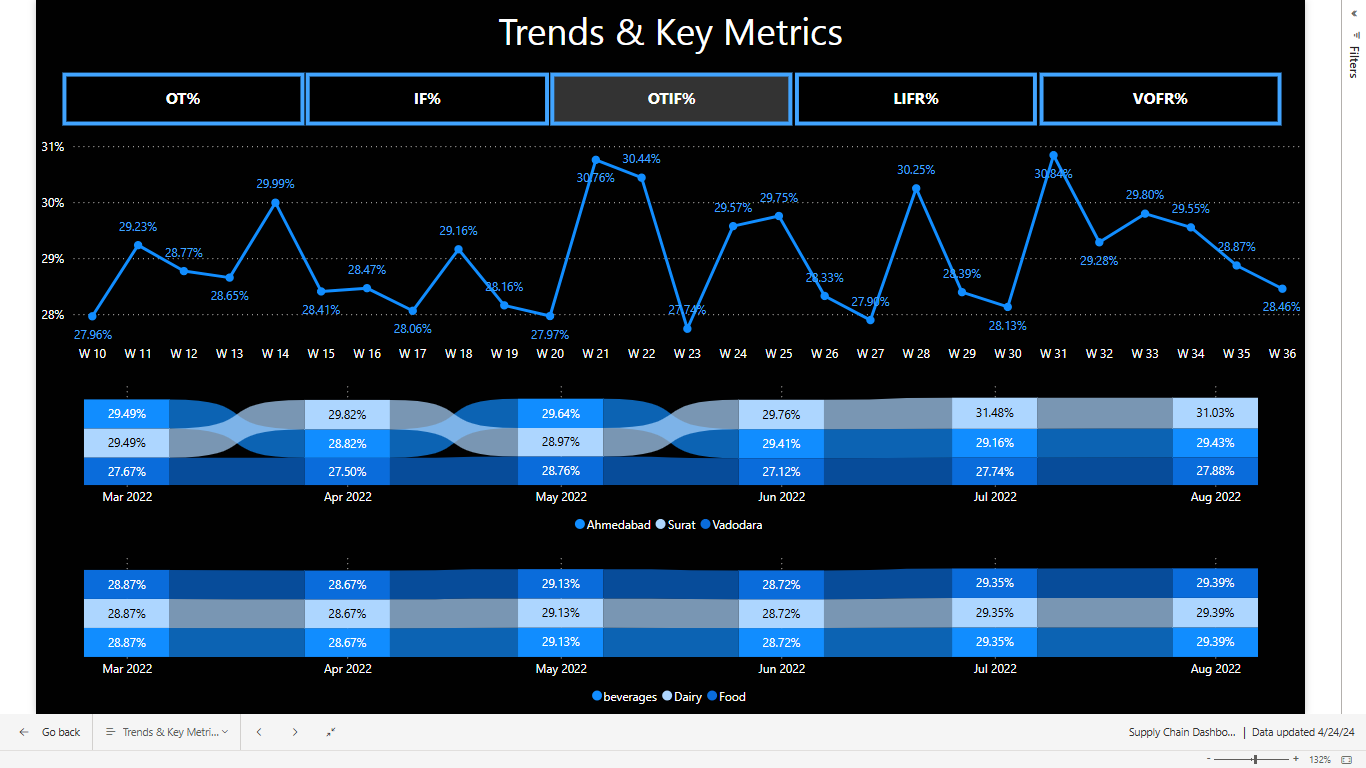

Layout of this report page (visuals, bound fields, positions):
{"tool":"powerbi","page":{"name":"Trends for Key Matrices","canvas":[1280,720],"ordinal":2},"visuals":[{"type":"lineChart","fields":{"Y":["fact_order_lines.VOFR%"],"Category":["dim_date.week_no"]},"box":[0,133.3,1280,241.7],"z":0},{"type":"ribbonChart","fields":{"Y":["fact_order_lines.VOFR%"],"Category":["dim_date.mmm_yy"],"Series":["dim_customers.city"]},"box":[0,375,1280,171.7],"z":1000},{"type":"ribbonChart","fields":{"Y":["fact_order_lines.VOFR%"],"Series":["dim_products.category"],"Category":["dim_date.mmm_yy"]},"box":[0,546.7,1280,173.3],"z":2000},{"type":"slicer","fields":{"Values":["Parameter.Parameter"]},"box":[0,66.7,1280,66.7],"z":3000},{"type":"textbox","box":[0,0,1280,66.7],"z":4000}]}

Visuals, with their boxes on the page's 1280x720 design canvas (x1, y1, x2, y2). These are canvas units, not pixel positions in the 1366x768 screenshot, which may show the page scaled, cropped or inside an application window:
lineChart - fact_order_lines.VOFR% x dim_date.week_no: <bbox>0, 133, 1280, 375</bbox>
ribbonChart - fact_order_lines.VOFR% x dim_date.mmm_yy: <bbox>0, 375, 1280, 547</bbox>
ribbonChart - fact_order_lines.VOFR% x dim_products.category: <bbox>0, 547, 1280, 720</bbox>
slicer - Parameter.Parameter: <bbox>0, 67, 1280, 133</bbox>
textbox: <bbox>0, 0, 1280, 67</bbox>
